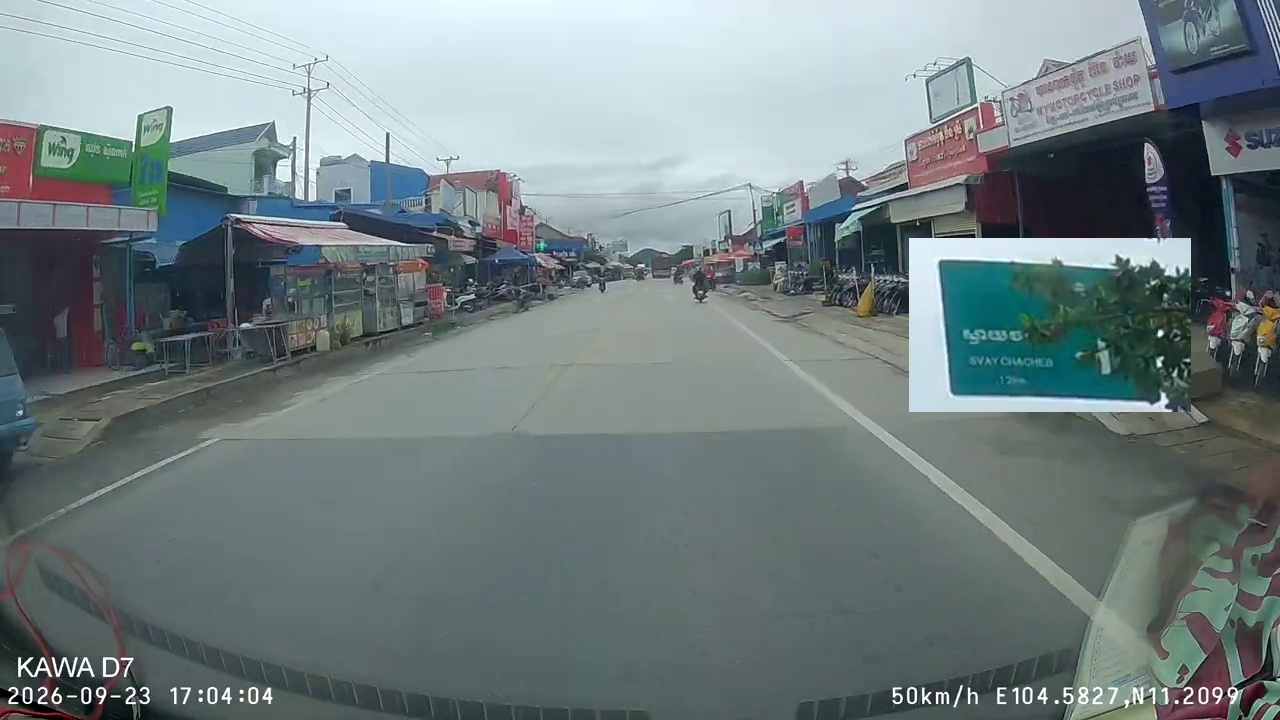direction_sign: (909, 238, 1191, 412)
